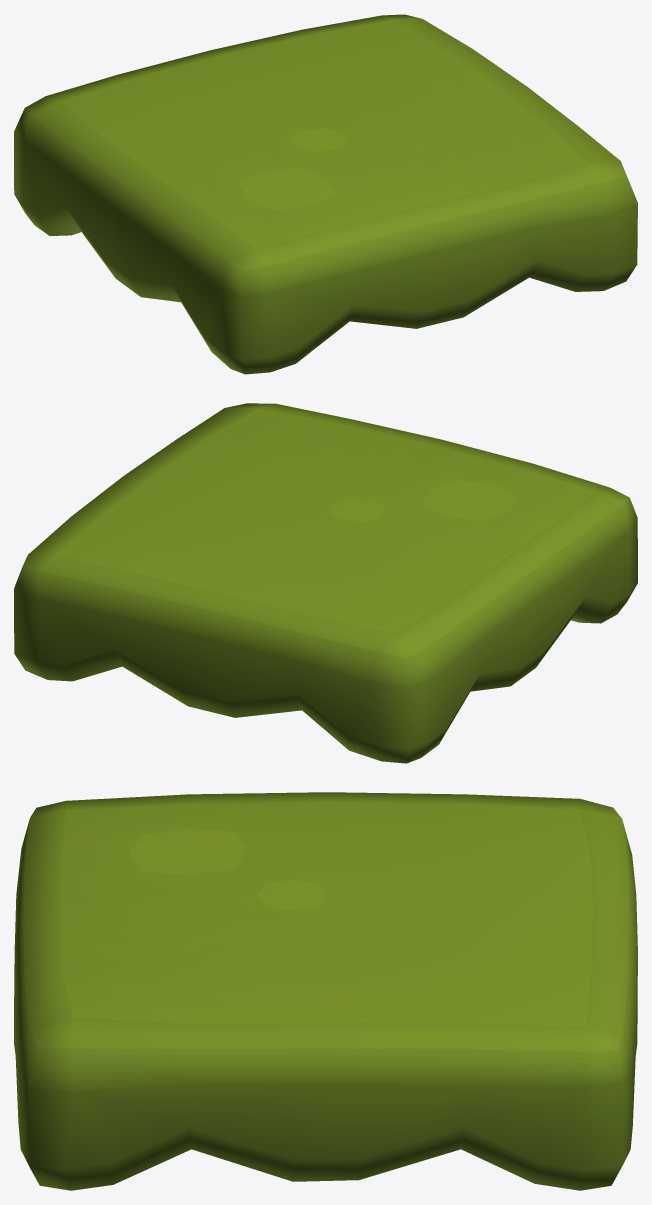
File: grasstop2_deco_LOD_group.fbx
3 views of the same model, one above another, from view 1: azimuth 30°, elevation 25°; view 2: azimuth 150°, elevation 25°; view 3: azimuth 270°, elevation 25° (orthographic). The views are drawn at different scales.
Visible parts, largest first — view 1: grasstop2_deco_LOD0; view 2: grasstop2_deco_LOD0; view 3: grasstop2_deco_LOD0.
Boxes of the visible parts, x1,y1,x2,y2 form: grasstop2_deco_LOD0: (14,14,637,374); grasstop2_deco_LOD0: (14,403,637,763); grasstop2_deco_LOD0: (14,792,637,1190).
Size of what is drawn, in the model's own units: 111 by 33.28 by 111.
1 material, 1 textured.
